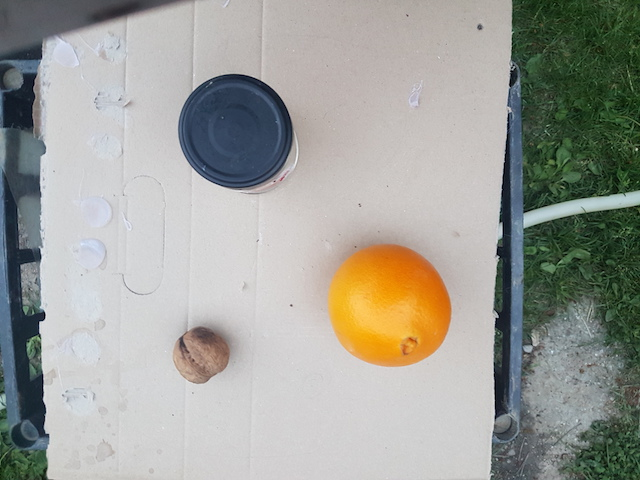nut: (173, 325, 231, 386)
orange: (327, 244, 454, 370)
recipient: (179, 73, 294, 191)
